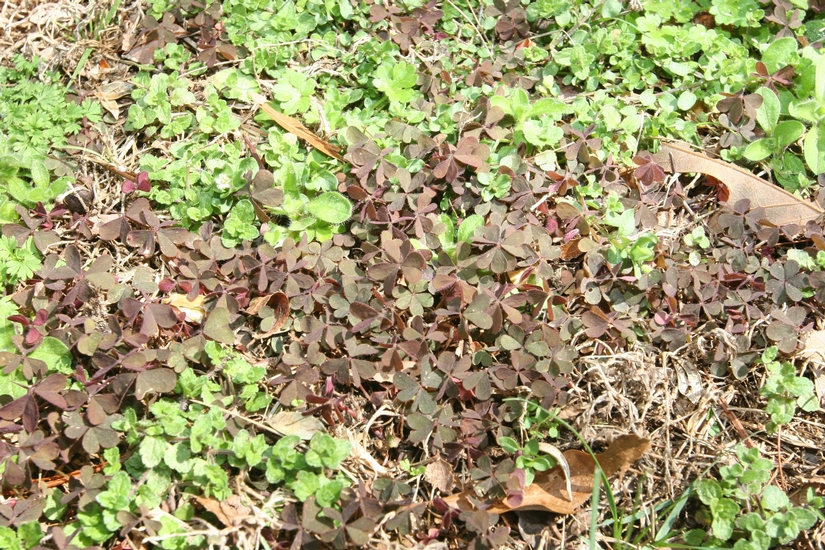oxalis: (91, 59, 789, 550)
